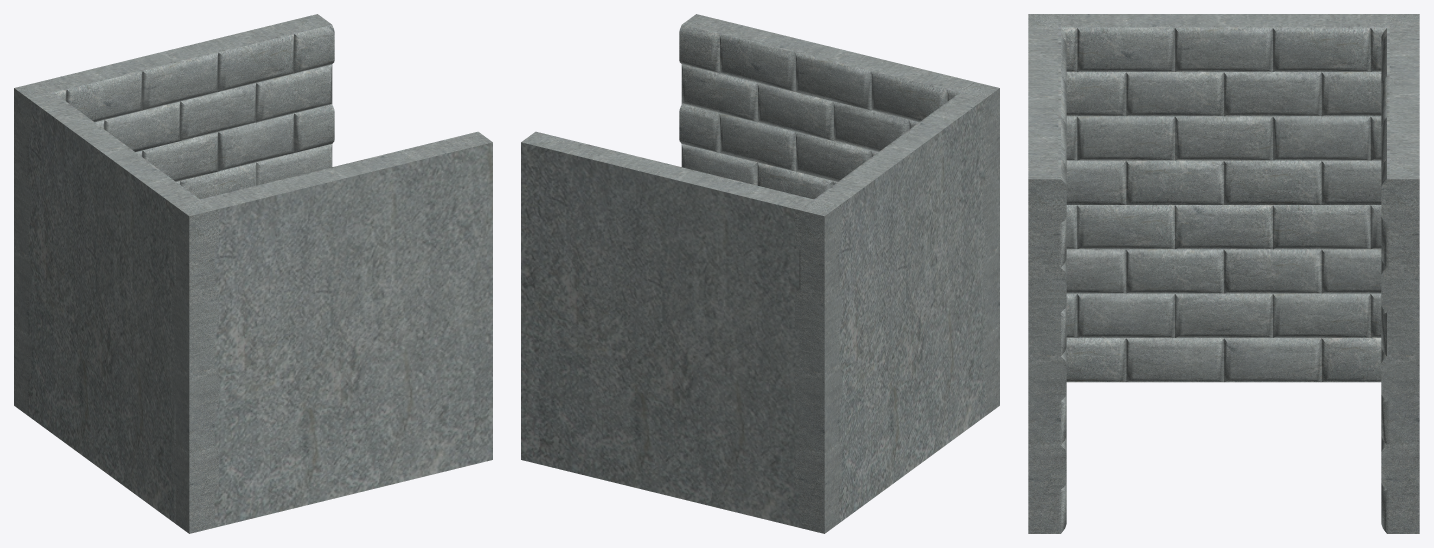
Rendered from Geomorph-StoneBrick-wall11.glb.
The picture shows the model from 3 angles, left to right: view 1: azimuth 30°, elevation 25°; view 2: azimuth 150°, elevation 25°; view 3: azimuth 270°, elevation 25°; orthographic projection. The views are drawn at different scales.
Parts seen in each view (by area): view 1: Wall; view 2: Wall; view 3: Wall.
Boxes of the visible parts, x1=… form: Wall: x1=14, y1=14, x2=492, y2=533; Wall: x1=521, y1=14, x2=999, y2=533; Wall: x1=1028, y1=14, x2=1419, y2=533.
Bounding box in the file's own units: 3 × 3 × 3.
Materials: 1 (1 with a texture image).
